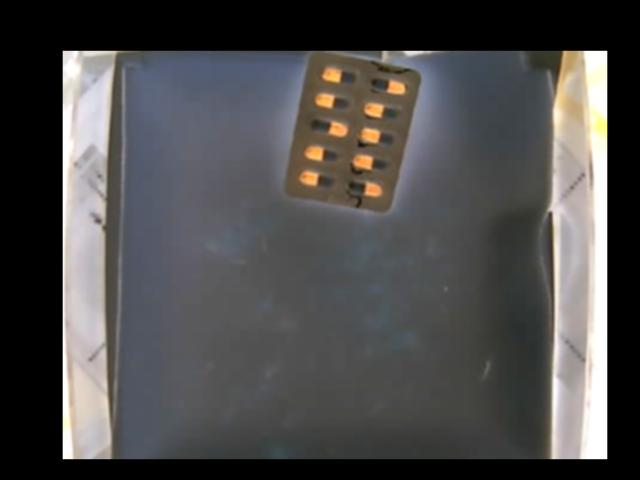Medicine: (285, 51, 418, 219)
